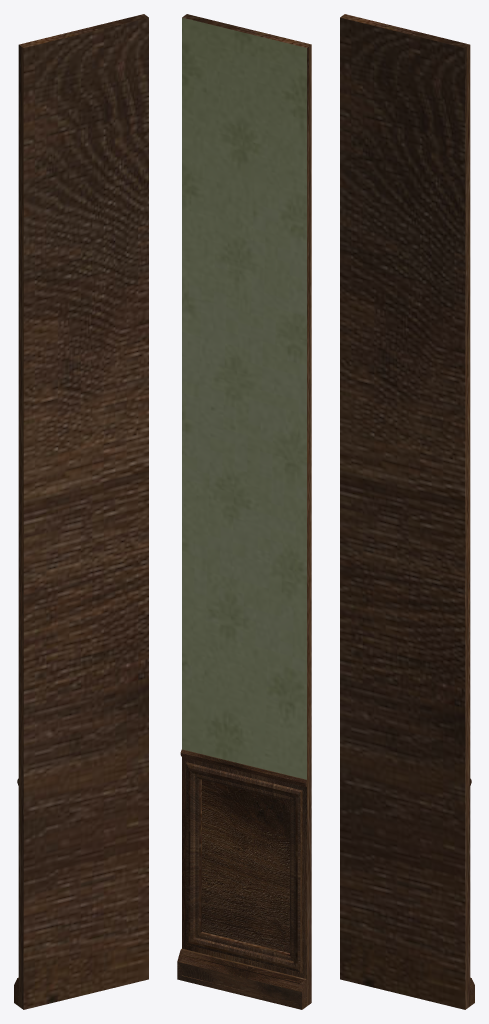
Rendered from Mur_V1.fbx.
3 renders of one model, left to right at view 1: azimuth 30°, elevation 25°; view 2: azimuth 150°, elevation 25°; view 3: azimuth 330°, elevation 25°, orthographic.
Visible parts, largest first — view 1: Cube; view 2: Cube; view 3: Cube.
Part boxes in pixels (x1,y1,x2,y2): Cube: [14, 14, 148, 1009]; Cube: [177, 14, 311, 1009]; Cube: [340, 14, 474, 1009].
Size of the model in its own units: 150 by 1100 by 20.
